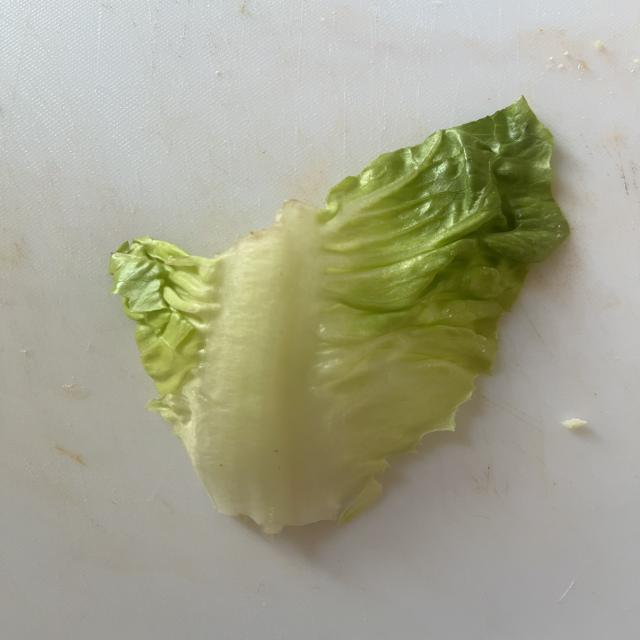lettuce: (109, 98, 567, 533)
